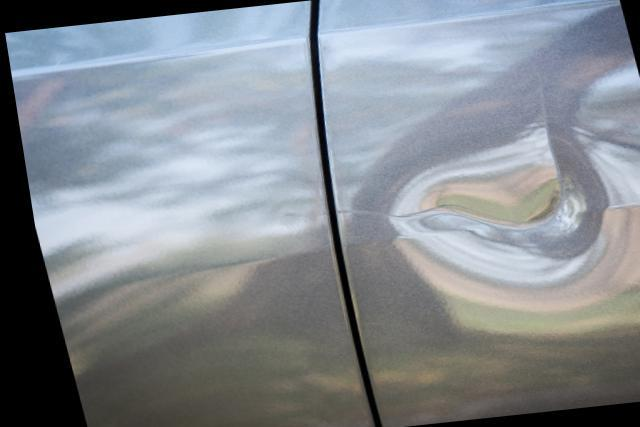dent: (385, 130, 604, 283)
